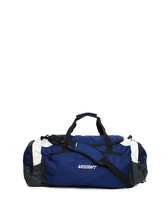bag: (13, 110, 152, 193)
